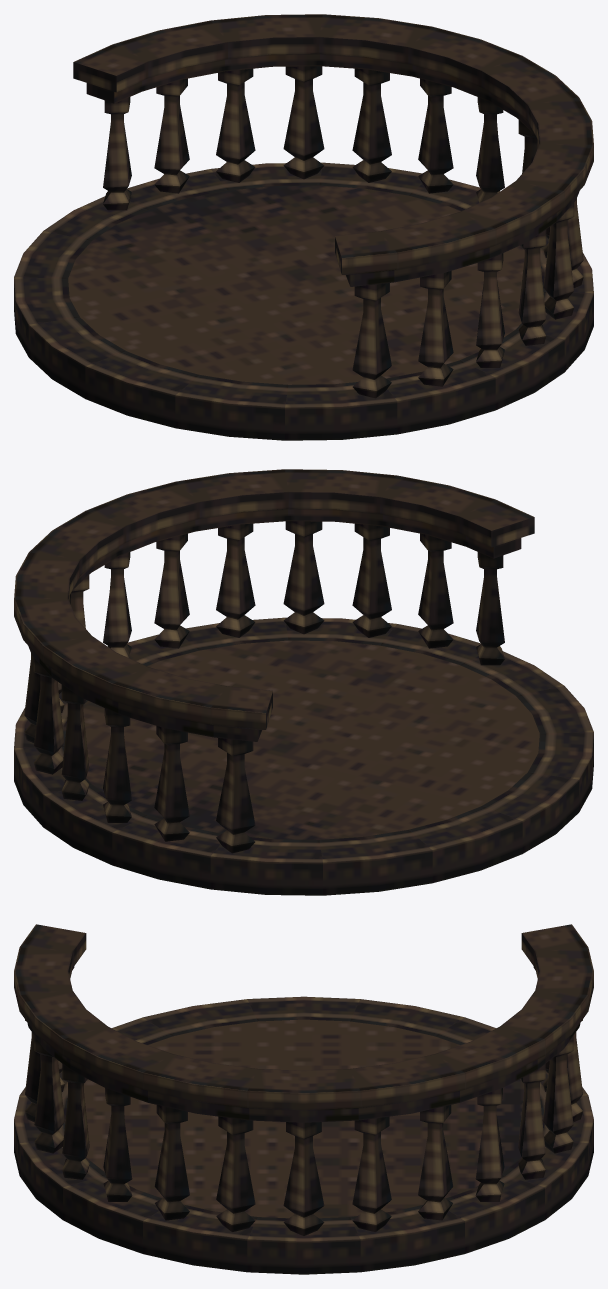
The model's file is EnvBdgMD_Courthouse_A_Indoor_Center.FBX.
The picture shows the model from 3 angles, top to bottom: view 1: azimuth 30°, elevation 25°; view 2: azimuth 150°, elevation 25°; view 3: azimuth 270°, elevation 25°; orthographic projection.
Parts seen in each view (by area): view 1: EnvBdgMD_Courthouse_A_Indoor_Center; view 2: EnvBdgMD_Courthouse_A_Indoor_Center; view 3: EnvBdgMD_Courthouse_A_Indoor_Center.
Part boxes in pixels (x1=…): EnvBdgMD_Courthouse_A_Indoor_Center: x1=14, y1=14, x2=593, y2=440; EnvBdgMD_Courthouse_A_Indoor_Center: x1=14, y1=469, x2=593, y2=895; EnvBdgMD_Courthouse_A_Indoor_Center: x1=14, y1=924, x2=593, y2=1274.
Size of the model in its own units: 319 by 110 by 319.
